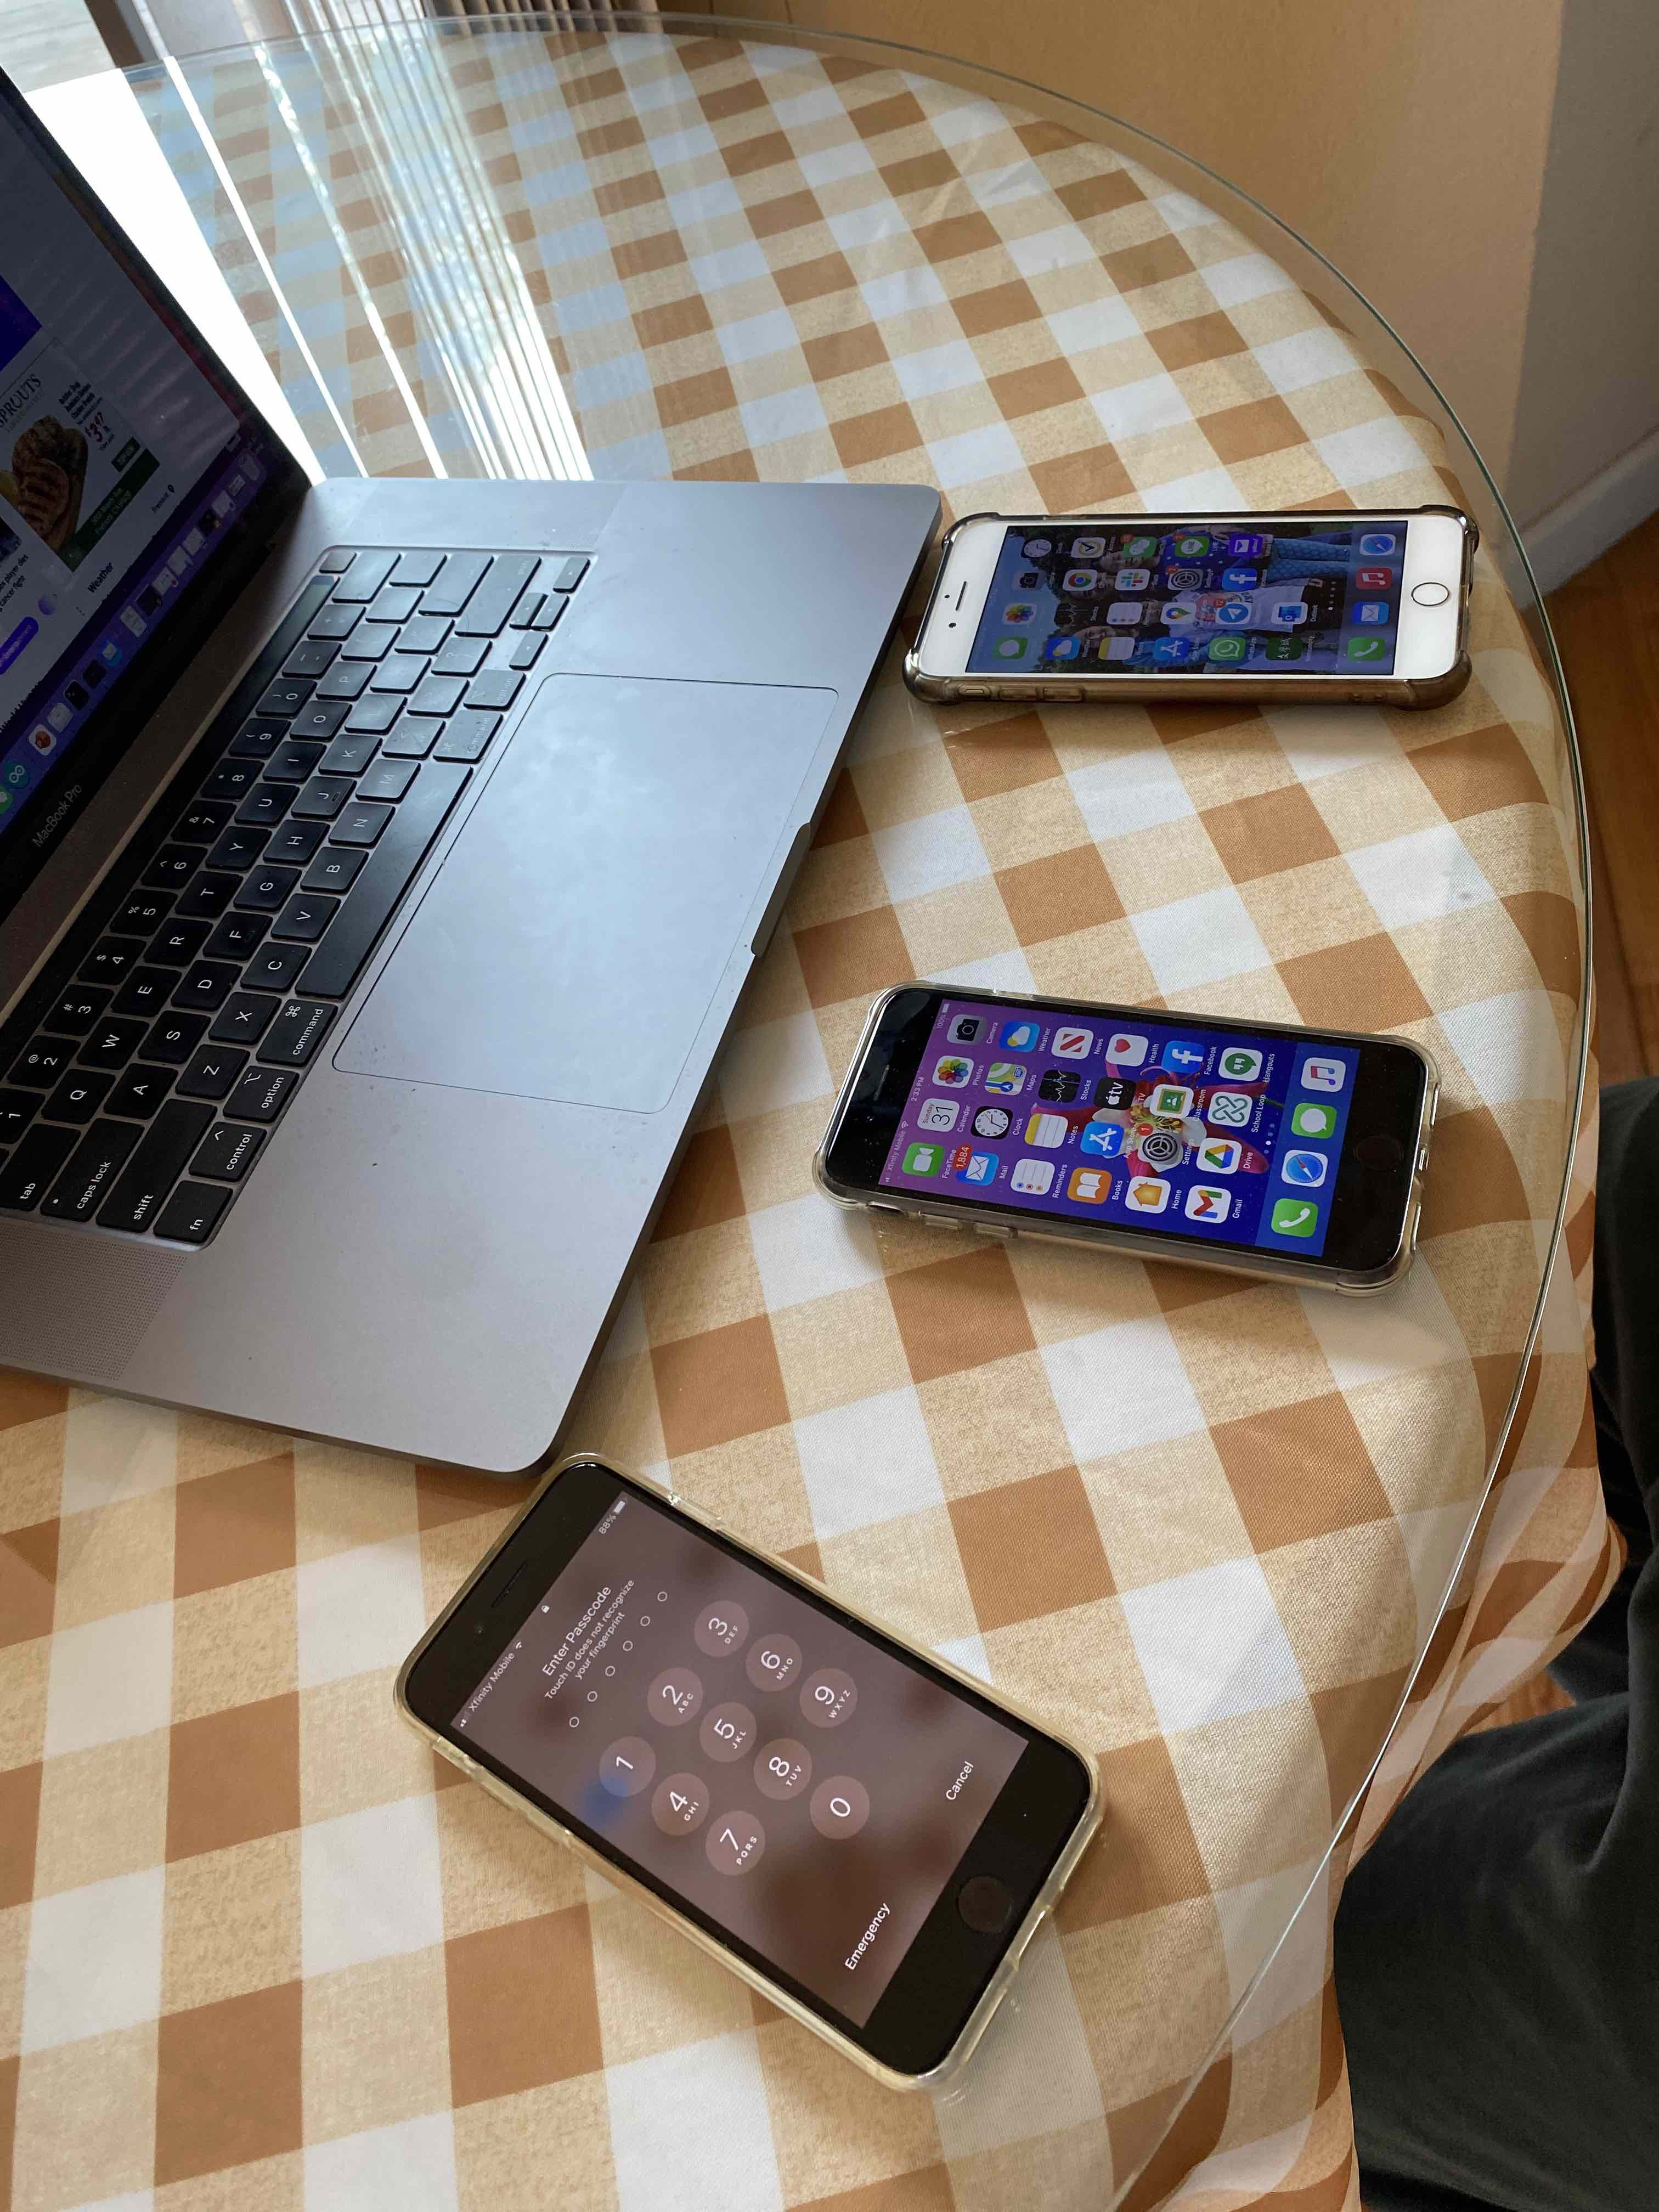Cell Phone: (401, 1453, 1110, 2083), (828, 989, 1438, 1296), (906, 516, 1481, 688)
